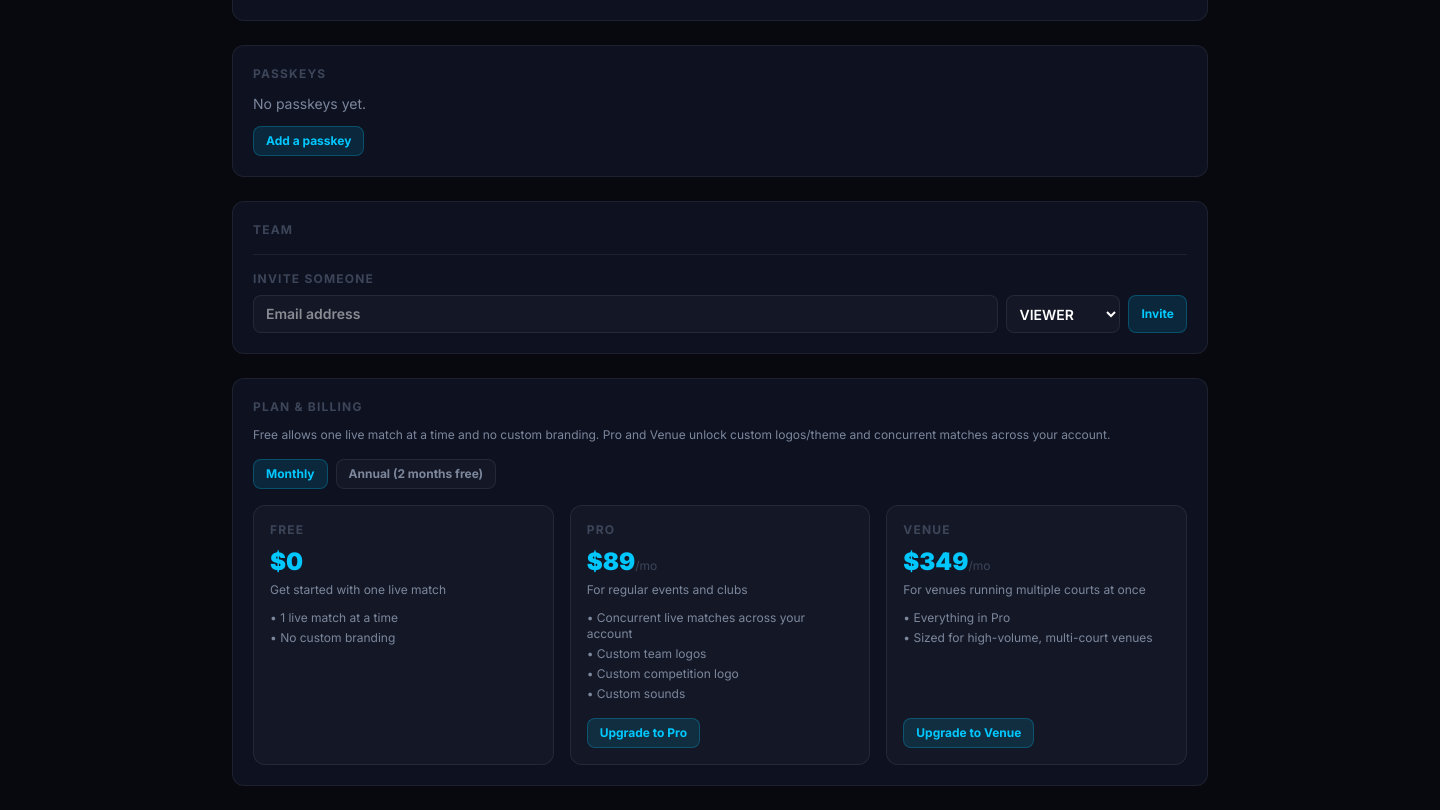
Test: AccountPage › shows the checkout error message when checkout fails to start
The image size is (1440, 810).
(page scrolled)
Click the button "Upgrade to Pro" at (643, 733), box [587, 718, 700, 748]
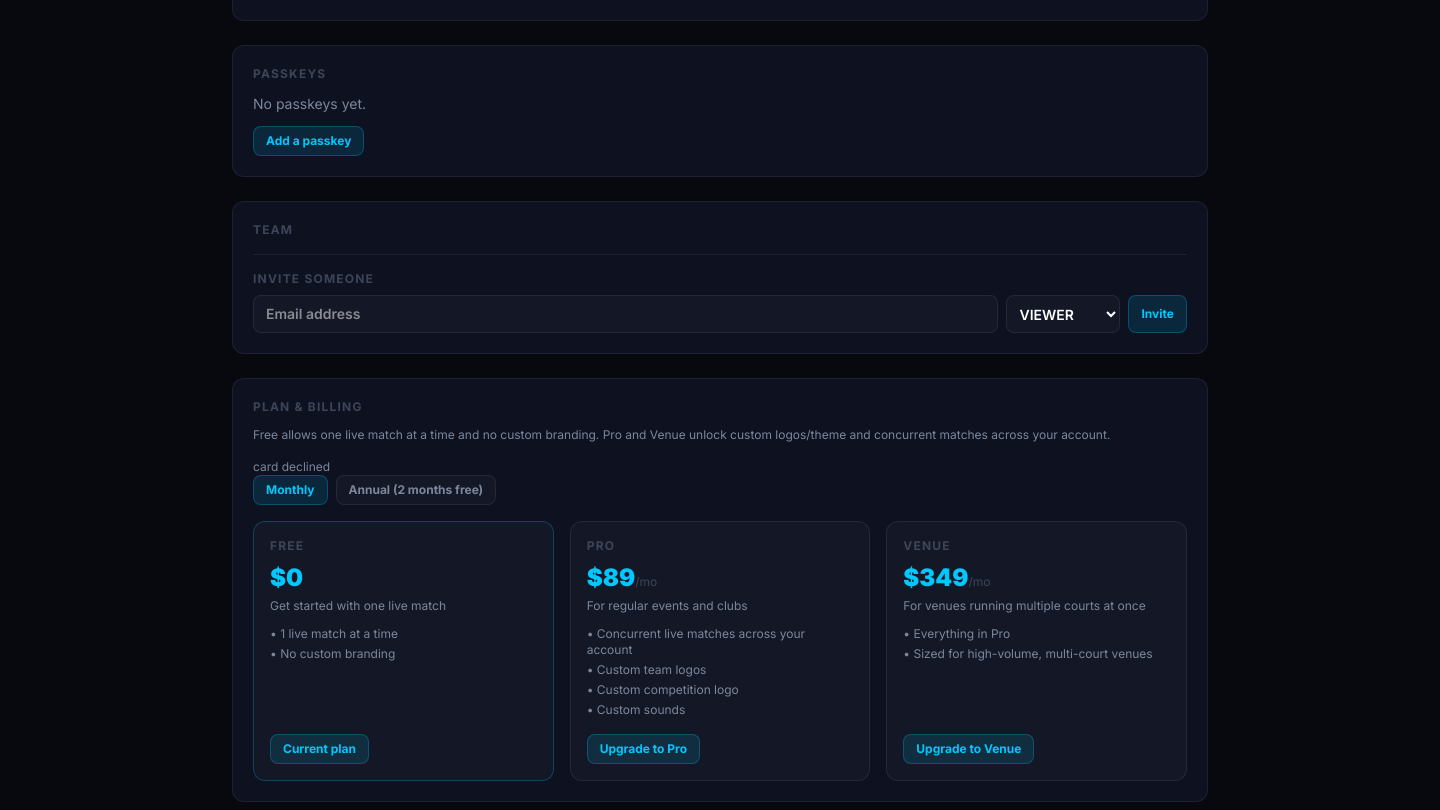
expect the text "card declined" is shown: met, box [253, 459, 330, 474]
